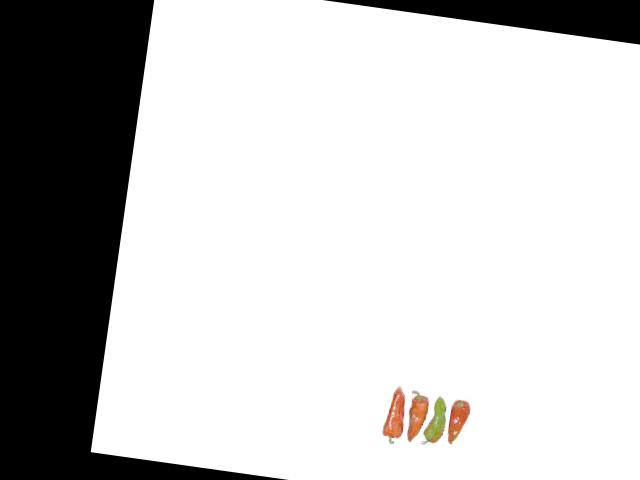bell_pepper: (444, 397, 476, 451)
